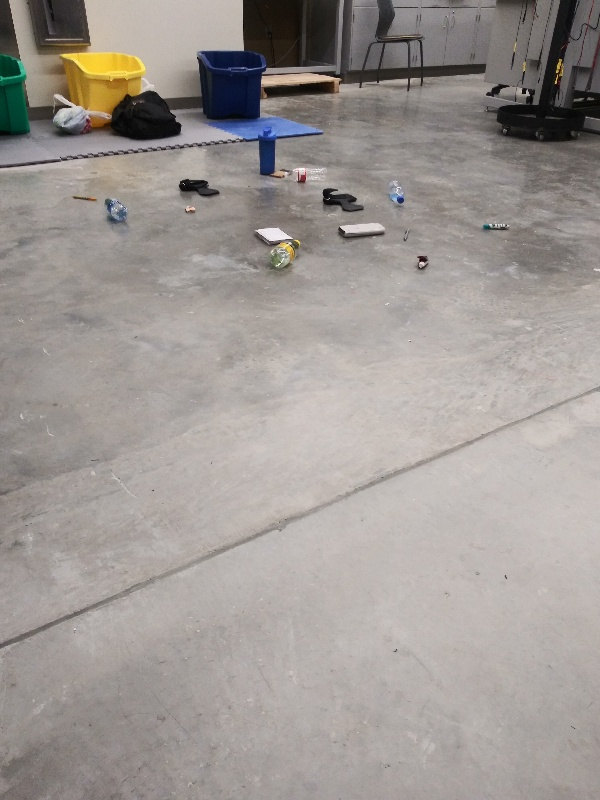bottle: (265, 237, 305, 271), (281, 165, 331, 186), (102, 195, 130, 224), (386, 177, 407, 209)
